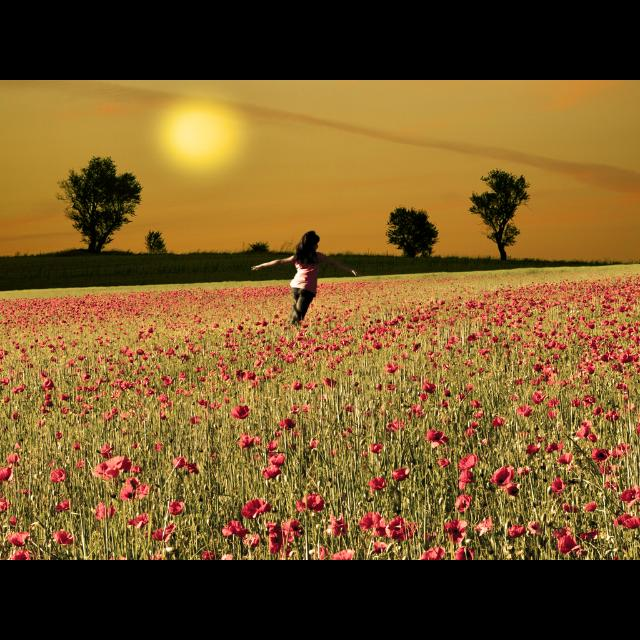Flower: (1, 277, 640, 559), (462, 454, 481, 470)
